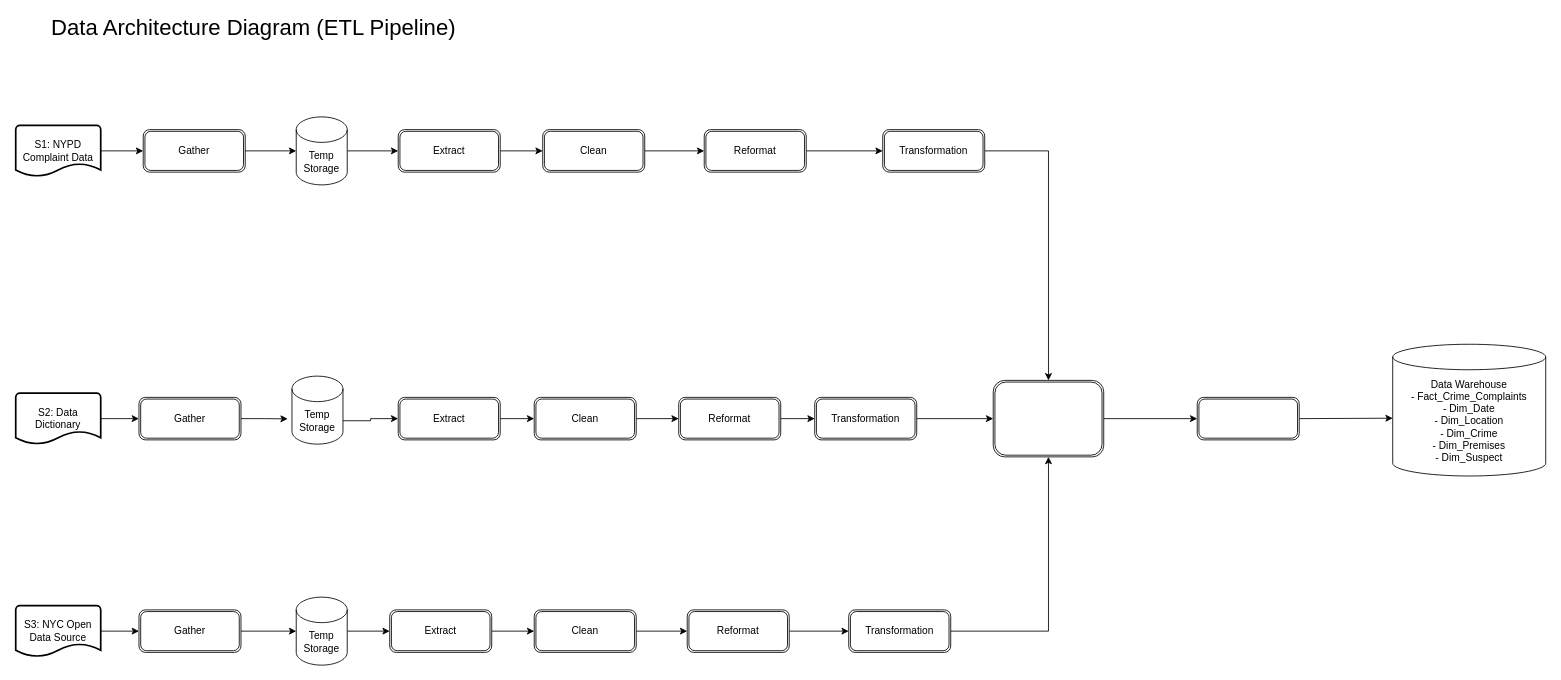
The diagram is 1561 pixels wide and 680 high, and some of its shapes have lost their labels. The shapes that lost their labels are listed below. From the top down, each one's centre as x and y in pixels, then its label:
At (1048,418): "Data Integration Process - Consolidate data -Merge sources - Validate data".
At (1247,418): "Loading".
